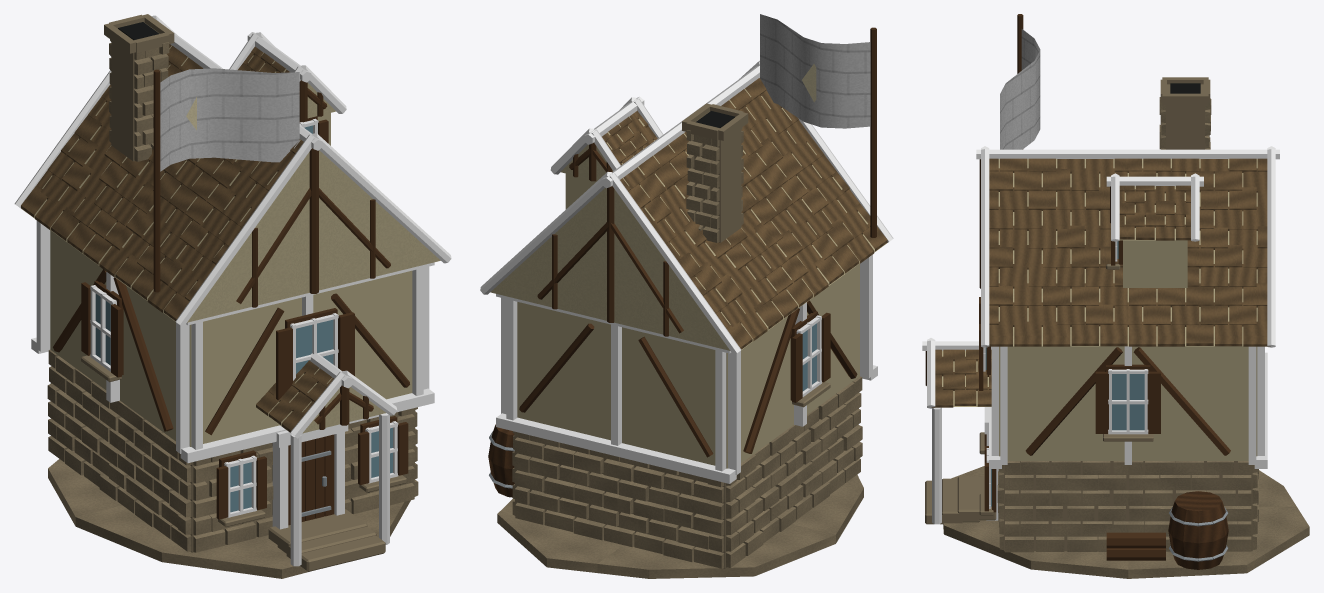
Rendered from Settlement.glb.
3 views of the same model, side by side, from view 1: azimuth 30°, elevation 25°; view 2: azimuth 150°, elevation 25°; view 3: azimuth 270°, elevation 25° (orthographic). The views are drawn at different scales.
Parts seen in each view (by area): view 1: Settlement; view 2: Settlement; view 3: Settlement.
Part boxes in pixels (left/top/right/bottom): Settlement: left=14, top=14, right=451, bottom=578; Settlement: left=480, top=14, right=893, bottom=578; Settlement: left=922, top=14, right=1309, bottom=578.
Size of the model in its own units: 0.3077 by 0.45 by 0.3583.
Materials: 10 (8 with a texture image).
